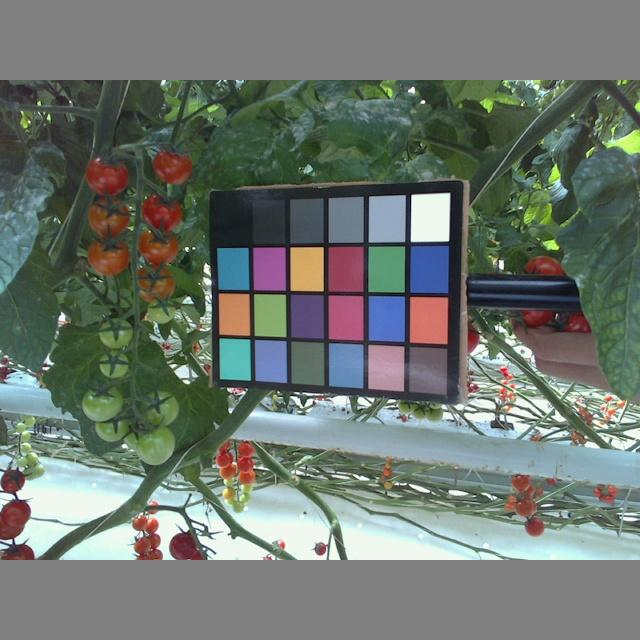green: (132, 426, 176, 464), (140, 388, 181, 427), (80, 385, 124, 421), (98, 317, 135, 349), (96, 411, 130, 444), (100, 350, 129, 381), (145, 299, 175, 326)
pink: (135, 263, 177, 306), (83, 237, 128, 277), (87, 195, 129, 237), (137, 227, 178, 267), (3, 499, 32, 526), (1, 469, 25, 494), (141, 516, 159, 533), (133, 537, 151, 554)
red: (83, 156, 127, 195), (139, 192, 183, 230), (152, 150, 194, 187)
